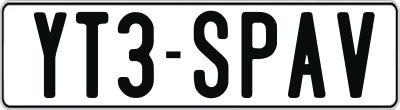3: (118, 9, 157, 96)
A: (288, 10, 329, 96)
P: (242, 10, 282, 99)
S: (193, 8, 230, 95)
T: (74, 9, 107, 98)
V: (335, 11, 376, 98)
Y: (31, 10, 67, 97)
